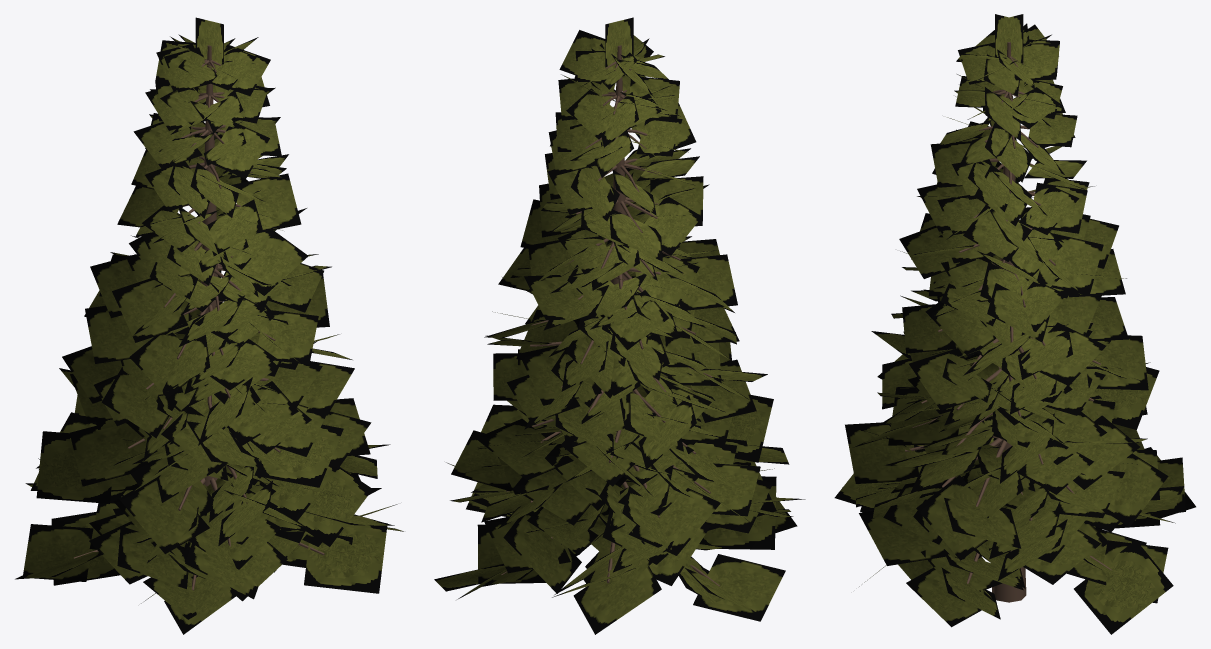
Rendered from pine_2_burnt1.glb.
The picture shows the model from 3 angles, left to right: view 1: azimuth 30°, elevation 25°; view 2: azimuth 150°, elevation 25°; view 3: azimuth 270°, elevation 25°; orthographic projection.
Parts seen in each view (by area): view 1: pine_2_burnt1; view 2: pine_2_burnt1; view 3: pine_2_burnt1.
Boxes of the visible parts, x1,y1,x2,y2 form: pine_2_burnt1: [15, 17, 403, 634]; pine_2_burnt1: [434, 17, 805, 634]; pine_2_burnt1: [834, 14, 1195, 634].
Size of the model in its own units: 7.1 by 11.74 by 6.67.
Materials: 2 (1 with a texture image).
